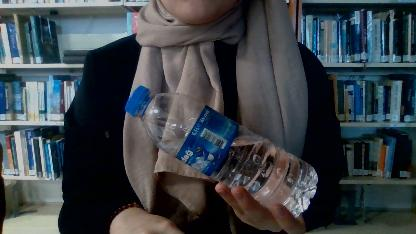Plastic Bottle: (123, 82, 321, 222)
